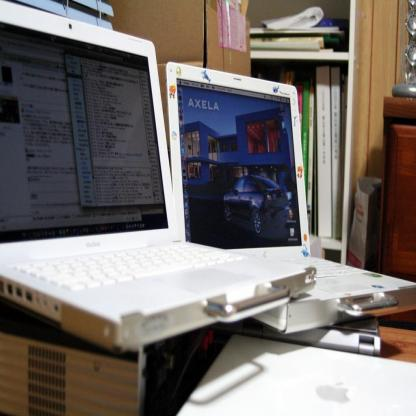board: (0, 0, 316, 347), (166, 64, 416, 333)
